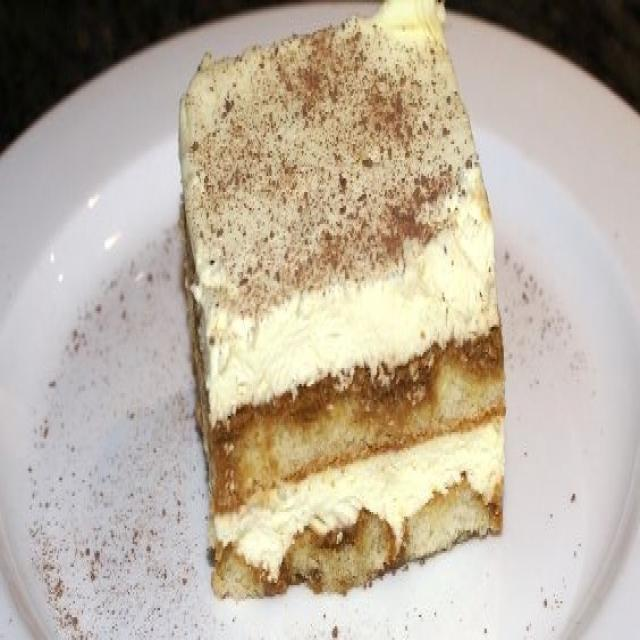蛋糕甜品: (0, 2, 633, 636)
